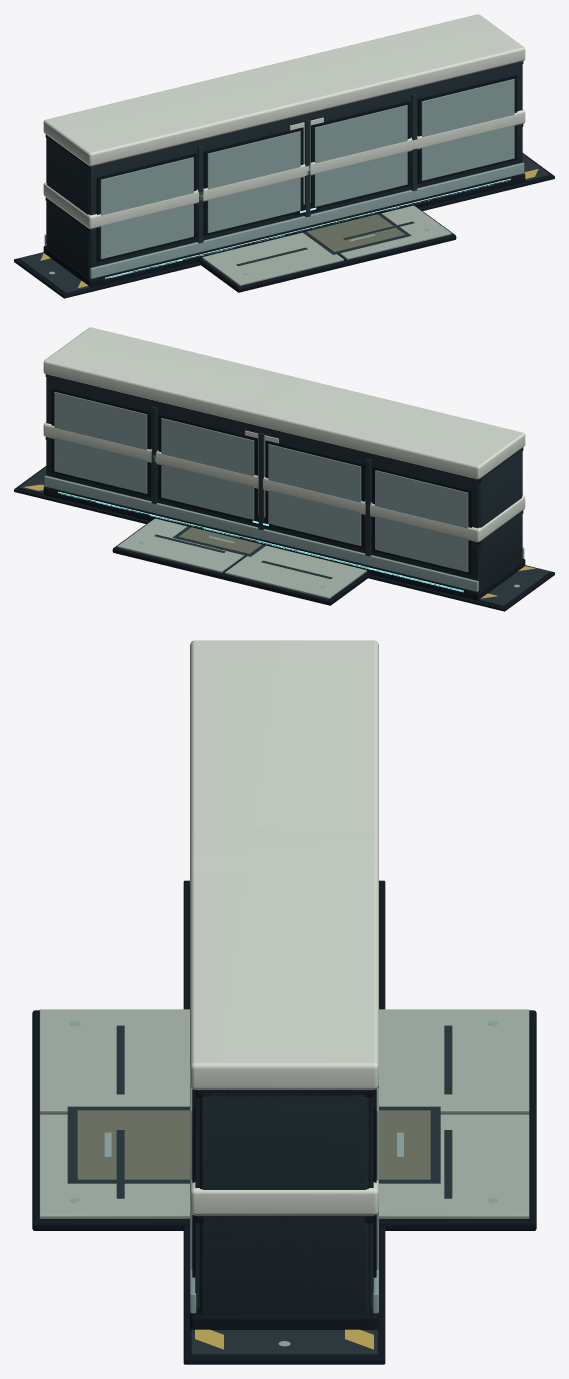
Rendered from structure.glb.
3 renders of one model, top to bottom at view 1: azimuth 30°, elevation 25°; view 2: azimuth 150°, elevation 25°; view 3: azimuth 270°, elevation 25°, orthographic. The views are drawn at different scales.
Parts seen in each view (by area): view 1: wall-bulkhead--e9-trim, wall-bulkhead--e9-ceramic, wall-bulkhead--e9-body, wall-bulkhead--e9-dark, deck-ceramic-panel--e9-floor-ceramic, wall-bulkhead-low--e9-ceramic, wall-bulkhead-low--e9-body, wall-bulkhead-low--e9-trim, wall-end-jamb--e9-ceramic, deck-oxidised-panel--e9-floor-oxidised, deck-ceramic-panel--e9-dark, door-threshold--e9-dark (+6 smaller); view 2: wall-bulkhead--e9-trim, wall-bulkhead--e9-ceramic, wall-bulkhead--e9-body, wall-bulkhead--e9-dark, deck-ceramic-panel--e9-floor-ceramic, wall-bulkhead-low--e9-ceramic, wall-bulkhead-low--e9-trim, wall-bulkhead-low--e9-body, wall-end-jamb--e9-ceramic, deck-ceramic-panel--e9-dark, door-threshold--e9-dark, door-threshold--e9-floor-rubber (+5 smaller); view 3: wall-bulkhead--e9-ceramic, deck-ceramic-panel--e9-floor-ceramic, wall-bulkhead--e9-body, deck-oxidised-panel--e9-floor-oxidised, wall-end-jamb--e9-ceramic, deck-ceramic-panel--e9-dark, door-threshold--e9-dark, wall-bulkhead--e9-dark, wall-bulkhead-low--e9-ceramic, door-threshold--e9-floor-rubber, wall-bulkhead-low--e9-body, deck-oxidised-panel--e9-body (+2 smaller).
Part boxes in pixels (left/top/right/bottom): wall-bulkhead--e9-trim: left=44, top=79, right=524, bottom=278; wall-bulkhead--e9-ceramic: left=43, top=14, right=525, bottom=166; wall-bulkhead--e9-body: left=46, top=61, right=522, bottom=277; wall-bulkhead--e9-dark: left=43, top=61, right=525, bottom=287; deck-ceramic-panel--e9-floor-ceramic: left=202, top=205, right=451, bottom=285; wall-bulkhead-low--e9-ceramic: left=43, top=109, right=525, bottom=229; wall-bulkhead-low--e9-body: left=46, top=125, right=522, bottom=277; wall-bulkhead-low--e9-trim: left=101, top=142, right=514, bottom=258; wall-end-jamb--e9-ceramic: left=239, top=61, right=330, bottom=204; deck-oxidised-panel--e9-floor-oxidised: left=306, top=214, right=404, bottom=251; deck-ceramic-panel--e9-dark: left=199, top=206, right=456, bottom=292; door-threshold--e9-dark: left=14, top=153, right=554, bottom=298; wall-bulkhead--e9-trim: left=44, top=392, right=524, bottom=591; wall-bulkhead--e9-ceramic: left=43, top=327, right=525, bottom=479; wall-bulkhead--e9-body: left=46, top=374, right=522, bottom=590; wall-bulkhead--e9-dark: left=43, top=374, right=525, bottom=600; deck-ceramic-panel--e9-floor-ceramic: left=117, top=518, right=366, bottom=598; wall-bulkhead-low--e9-ceramic: left=43, top=422, right=525, bottom=542; wall-bulkhead-low--e9-trim: left=54, top=456, right=468, bottom=571; wall-bulkhead-low--e9-body: left=46, top=438, right=522, bottom=589; wall-end-jamb--e9-ceramic: left=238, top=374, right=329, bottom=517; deck-ceramic-panel--e9-dark: left=112, top=519, right=369, bottom=605; door-threshold--e9-dark: left=14, top=466, right=554, bottom=611; door-threshold--e9-floor-rubber: left=19, top=467, right=549, bottom=606; wall-bulkhead--e9-ceramic: left=190, top=640, right=378, bottom=1089; deck-ceramic-panel--e9-floor-ceramic: left=39, top=1009, right=529, bottom=1218; wall-bulkhead--e9-body: left=190, top=1086, right=378, bottom=1315; deck-oxidised-panel--e9-floor-oxidised: left=77, top=1110, right=430, bottom=1179; wall-end-jamb--e9-ceramic: left=190, top=829, right=378, bottom=875; deck-ceramic-panel--e9-dark: left=32, top=1010, right=536, bottom=1230; door-threshold--e9-dark: left=183, top=880, right=385, bottom=1364; wall-bulkhead--e9-dark: left=190, top=1089, right=378, bottom=1331; wall-bulkhead-low--e9-ceramic: left=190, top=1088, right=378, bottom=1215; door-threshold--e9-floor-rubber: left=191, top=1329, right=377, bottom=1355; wall-bulkhead-low--e9-body: left=195, top=1218, right=373, bottom=1315; deck-oxidised-panel--e9-body: left=67, top=1106, right=440, bottom=1183.
Bounding box in the file's own units: 4.5 × 1.2 × 2.
